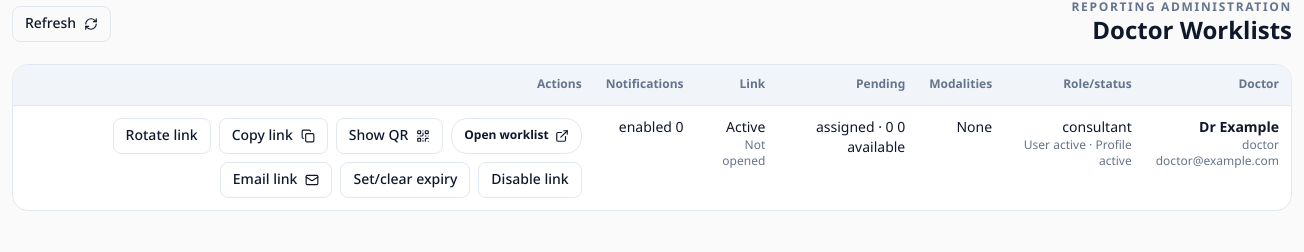
it: Doctor worklist query states › confirms the fixed stored email, queues only the worklist id, and reports asynchronous success
Click the button "Email link" at (276, 180), box [220,162,332,198]
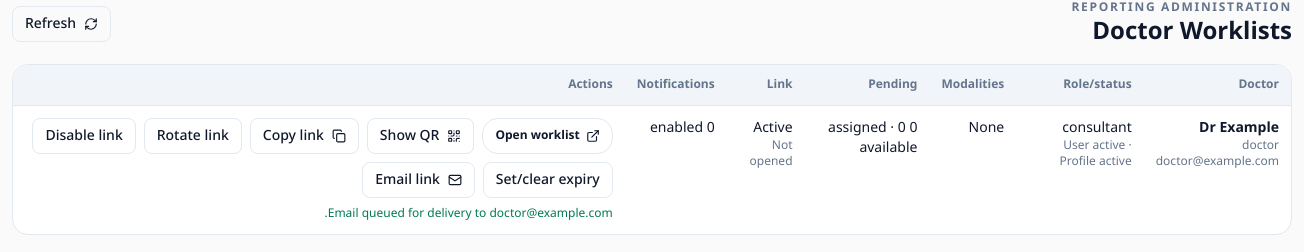
Check: the text "Email queued for delivery to doctor@example.com." is shown, box [324,201,613,226]
